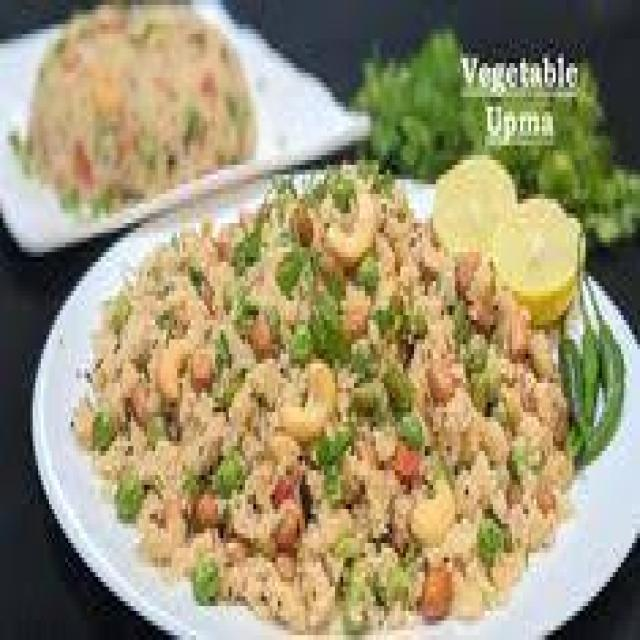UPMA: (77, 178, 561, 616)
